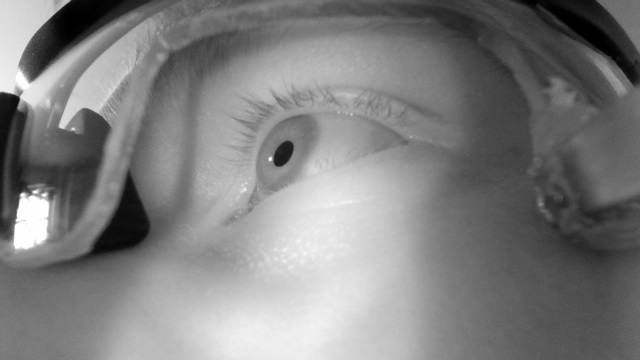pupil: (273, 140, 294, 167)
